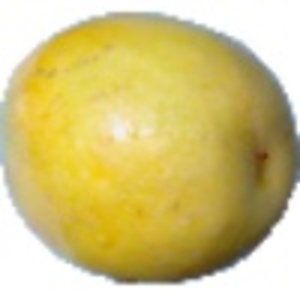maracujá: (1, 10, 300, 286)
